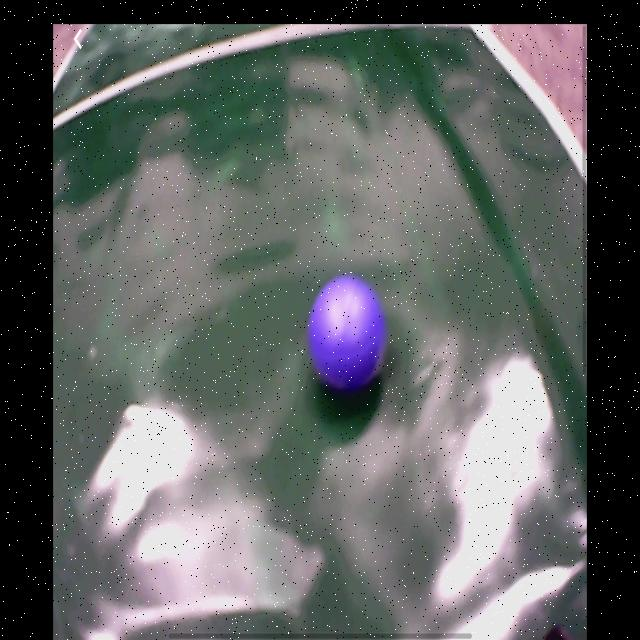ball: (308, 277, 388, 393)
